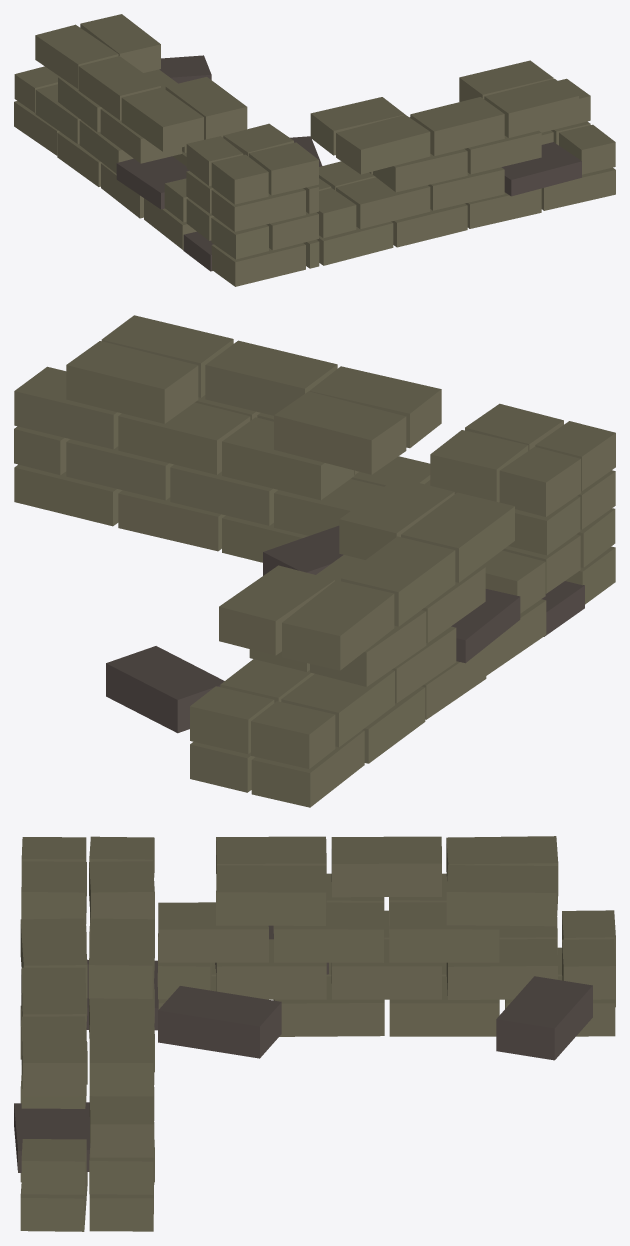
File: SM_PretilEsquina_v0_Recto_e1_Danado_LOD0.fbx
3 renders of one model, top to bottom at view 1: azimuth 30°, elevation 25°; view 2: azimuth 150°, elevation 25°; view 3: azimuth 270°, elevation 25°, orthographic. The views are drawn at different scales.
Visible parts, largest first — view 1: SM_pretil_azotea_v21_LOD0; view 2: SM_pretil_azotea_v21_LOD0; view 3: SM_pretil_azotea_v21_LOD0.
Boxes of the visible parts, x1,y1,x2,y2 form: SM_pretil_azotea_v21_LOD0: [14, 14, 615, 286]; SM_pretil_azotea_v21_LOD0: [14, 315, 615, 807]; SM_pretil_azotea_v21_LOD0: [14, 836, 615, 1231].
Size of the model in its own units: 4.43 by 1.18 by 4.43.
